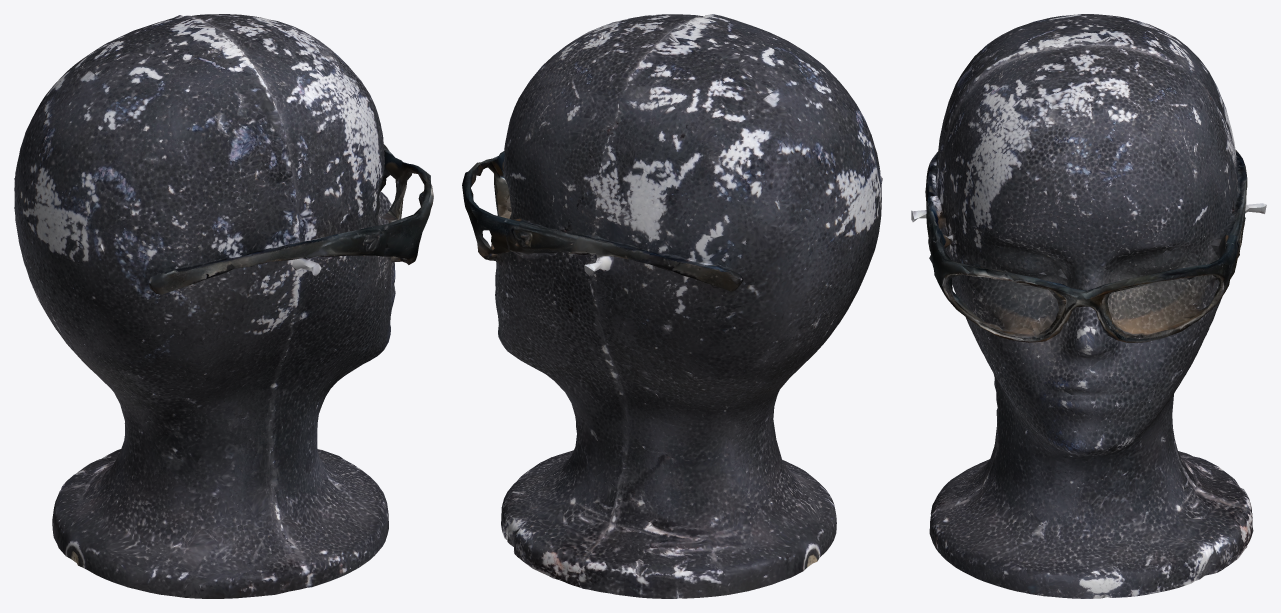
The model's file is mannequin_head.glb.
3 views of the same model, side by side, from view 1: azimuth 30°, elevation 25°; view 2: azimuth 150°, elevation 25°; view 3: azimuth 270°, elevation 25° (orthographic). The views are drawn at different scales.
Parts seen in each view (by area): view 1: model; view 2: model; view 3: model.
Boxes of the visible parts, bbox=[...] form: model: bbox=[14, 14, 433, 598]; model: bbox=[462, 14, 882, 598]; model: bbox=[911, 14, 1266, 598].
Size of the model in its own units: 0.3322 by 0.4381 by 0.291.
1 material, 1 textured.
